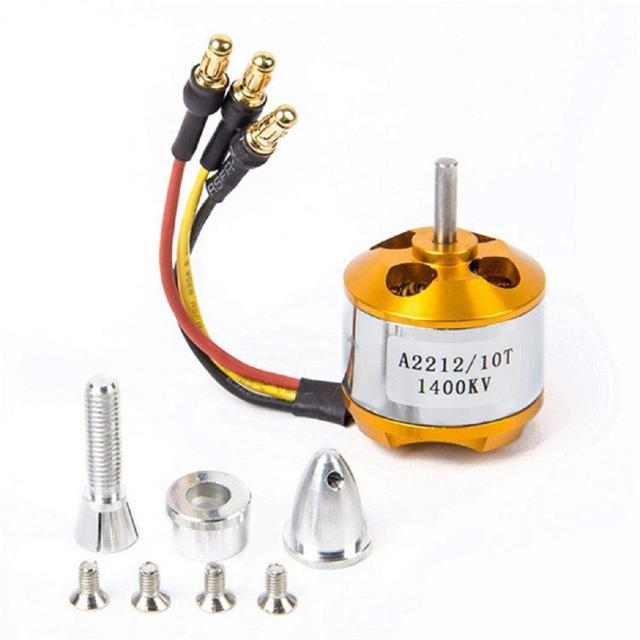motor: (307, 140, 583, 468)
